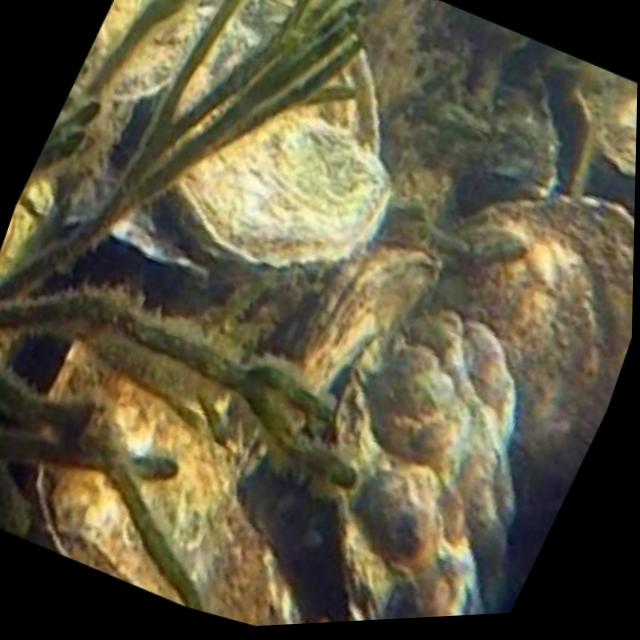Oyster-Closed: (292, 237, 432, 395)
Oyster-Indeterminate: (34, 332, 303, 626), (429, 201, 634, 519), (164, 0, 391, 267), (323, 312, 509, 621), (69, 0, 204, 103)
